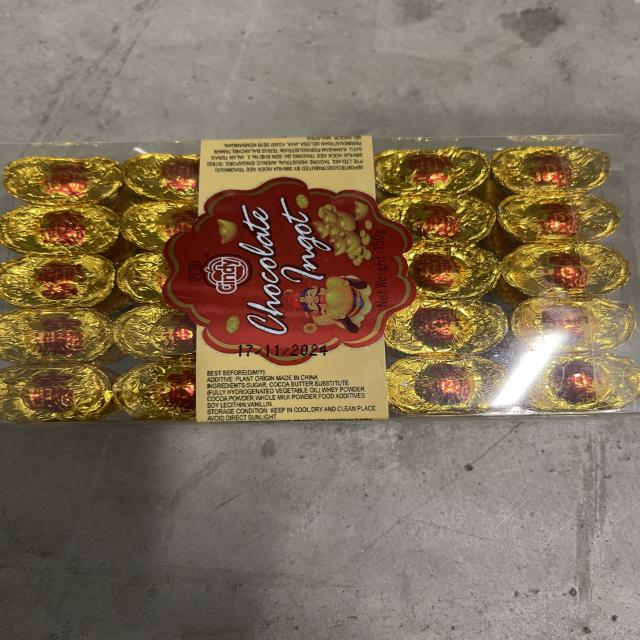object_name: (0, 139, 624, 405)
